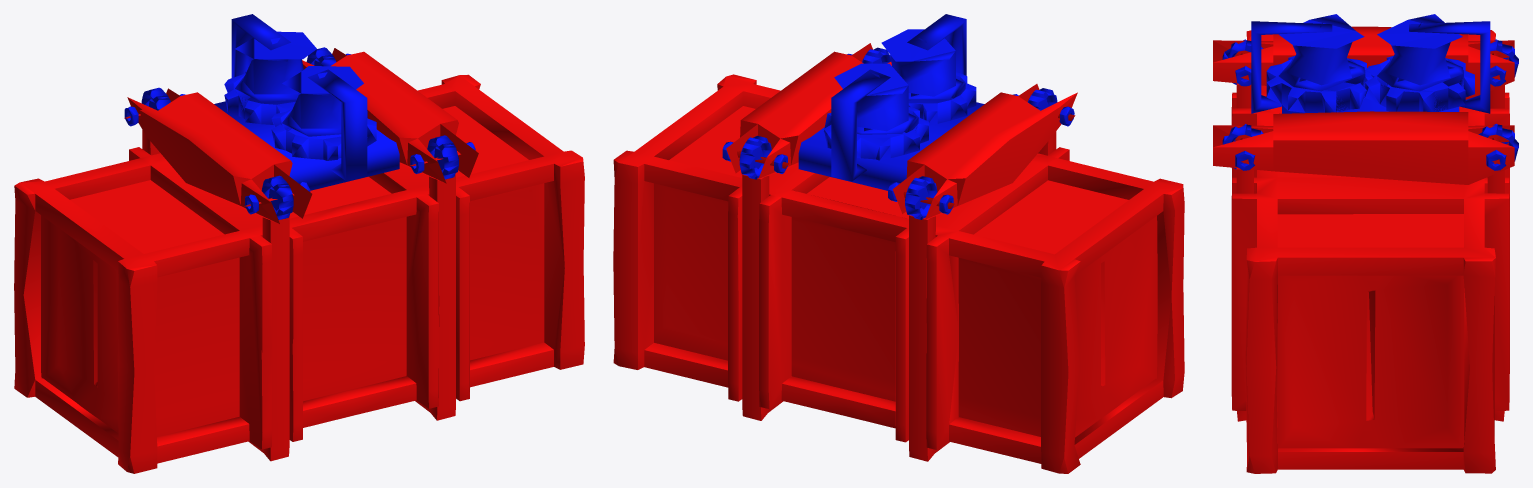
File: main_Stage1Train001_LOD2.fbx
3 renders of one model, left to right at view 1: azimuth 30°, elevation 25°; view 2: azimuth 150°, elevation 25°; view 3: azimuth 270°, elevation 25°, orthographic. The views are drawn at different scales.
Parts seen in each view (by area): view 1: main_Stage1TrainBody003, main_Stage1TrainWheel006, main_Stage1TrainWheel005; view 2: main_Stage1TrainBody003, main_Stage1TrainWheel005, main_Stage1TrainWheel006; view 3: main_Stage1TrainBody003, main_Stage1TrainWheel005, main_Stage1TrainWheel006.
Part boxes in pixels (<box>): main_Stage1TrainBody003: <box>14,14,584,473</box>; main_Stage1TrainWheel006: <box>271,66,376,160</box>; main_Stage1TrainWheel005: <box>224,31,316,124</box>; main_Stage1TrainBody003: <box>613,14,1184,473</box>; main_Stage1TrainWheel005: <box>824,63,928,160</box>; main_Stage1TrainWheel006: <box>881,29,976,125</box>; main_Stage1TrainBody003: <box>1213,21,1518,473</box>; main_Stage1TrainWheel005: <box>1365,14,1474,111</box>; main_Stage1TrainWheel006: <box>1266,14,1376,112</box>.
Size of the model in its own units: 12.64 by 8.89 by 7.02.
